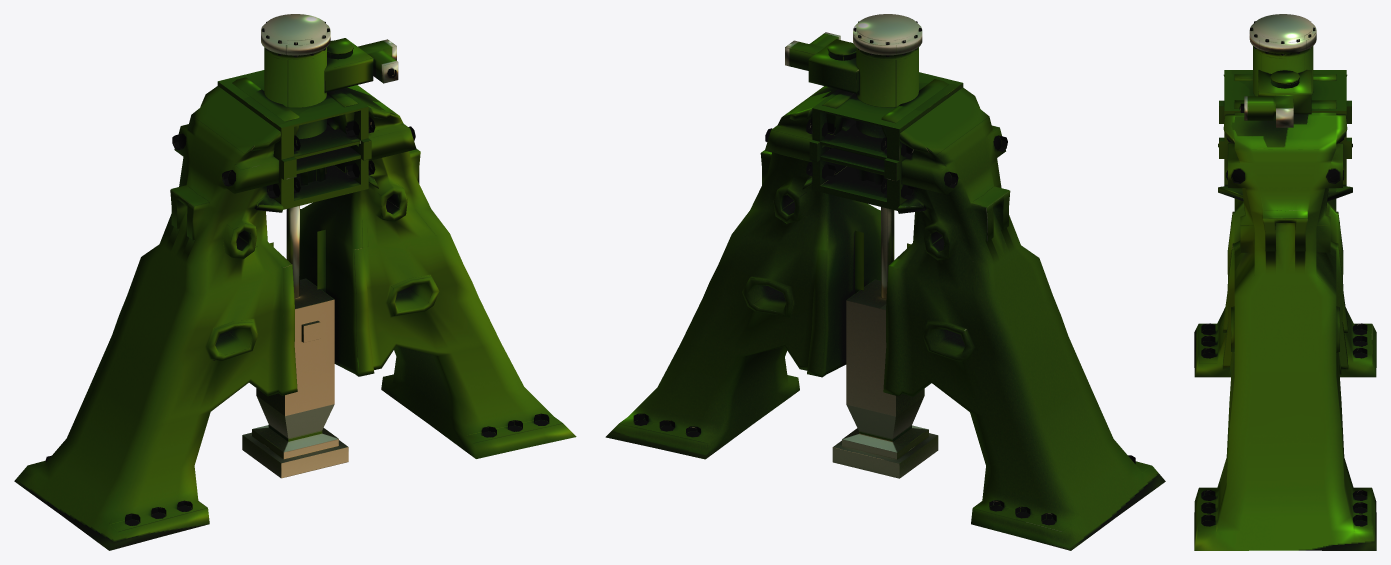
3 renders of one model, left to right at view 1: azimuth 30°, elevation 25°; view 2: azimuth 150°, elevation 25°; view 3: azimuth 270°, elevation 25°, orthographic. The views are drawn at different scales.
Parts seen in each view (by area): view 1: Cube; view 2: Cube; view 3: Cube.
Part boxes in pixels (x1=…): Cube: x1=14, y1=14, x2=576, y2=550; Cube: x1=605, y1=14, x2=1165, y2=550; Cube: x1=1194, y1=14, x2=1376, y2=550.
Bounding box in the file's own units: 8.38 × 7.41 × 2.96.
1 material, 1 textured.
